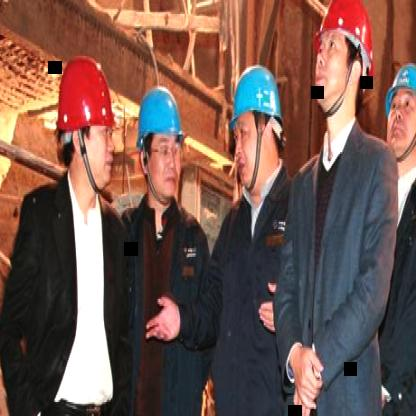helmet: (306, 0, 375, 124), (52, 53, 112, 190), (230, 55, 284, 184), (130, 77, 182, 201), (381, 59, 416, 155)
